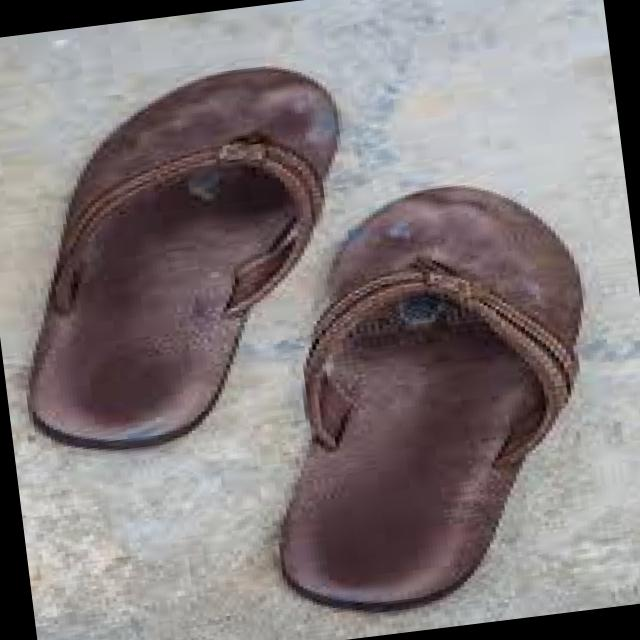giay: (280, 186, 579, 612), (29, 70, 338, 449)
